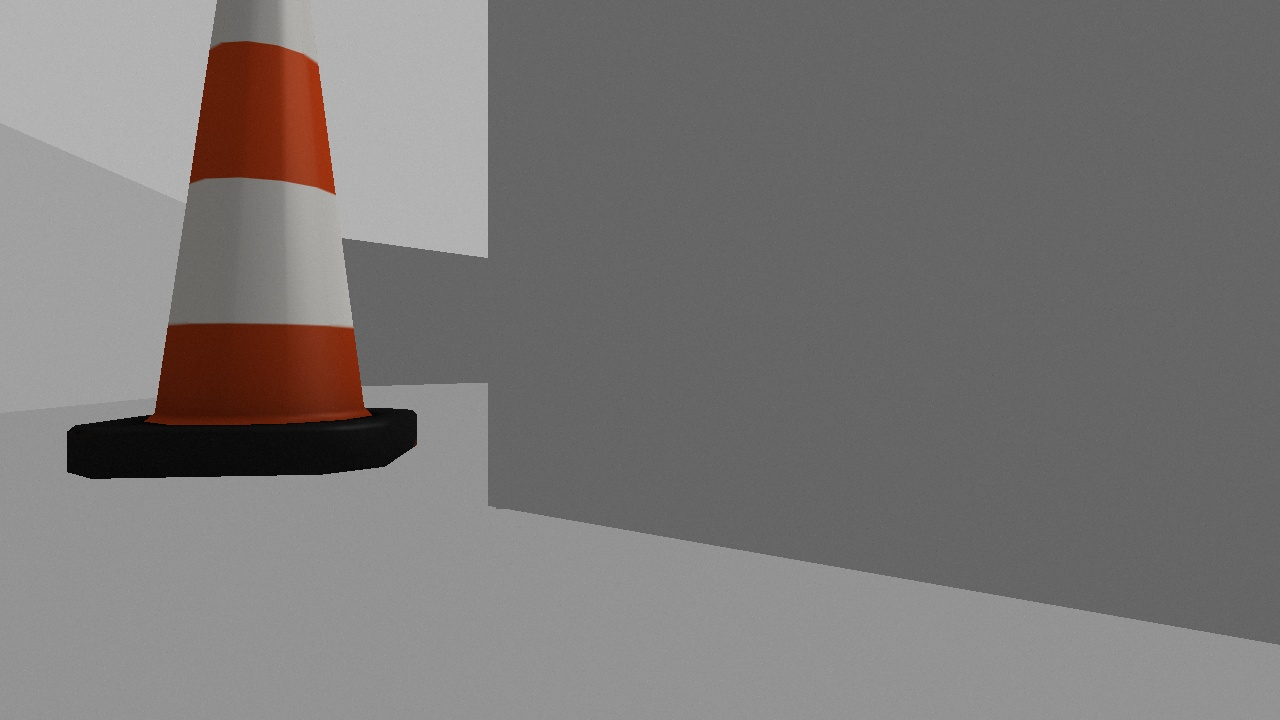barricade: (66, 1, 419, 480)
